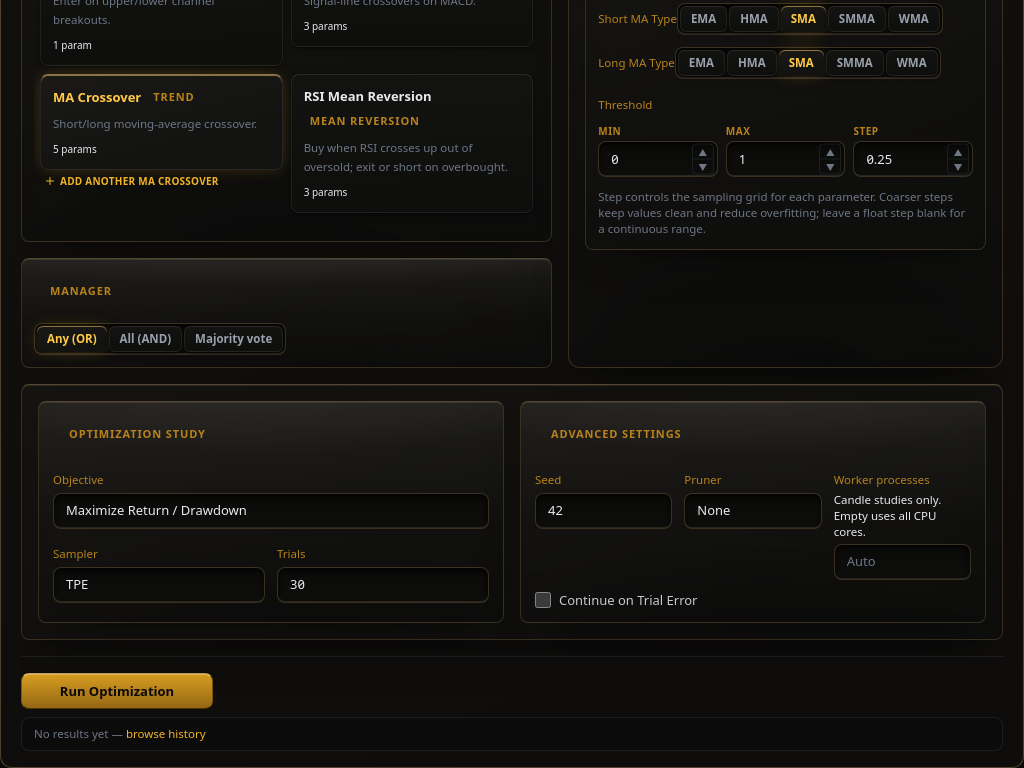
Test case: BacktestsWorkspace — optimization focus swap › routes the pre-run results teaser to history
The image size is (1024, 768).
(page scrolled)
Check: the button "MA Crossover" is shown, box x1=40 y1=74 x2=283 y2=170
Step 1. Click the button with aria-label "Open optimization history" → (80, 734), box x1=21 y1=717 x2=1003 y2=751
(page scrolled)
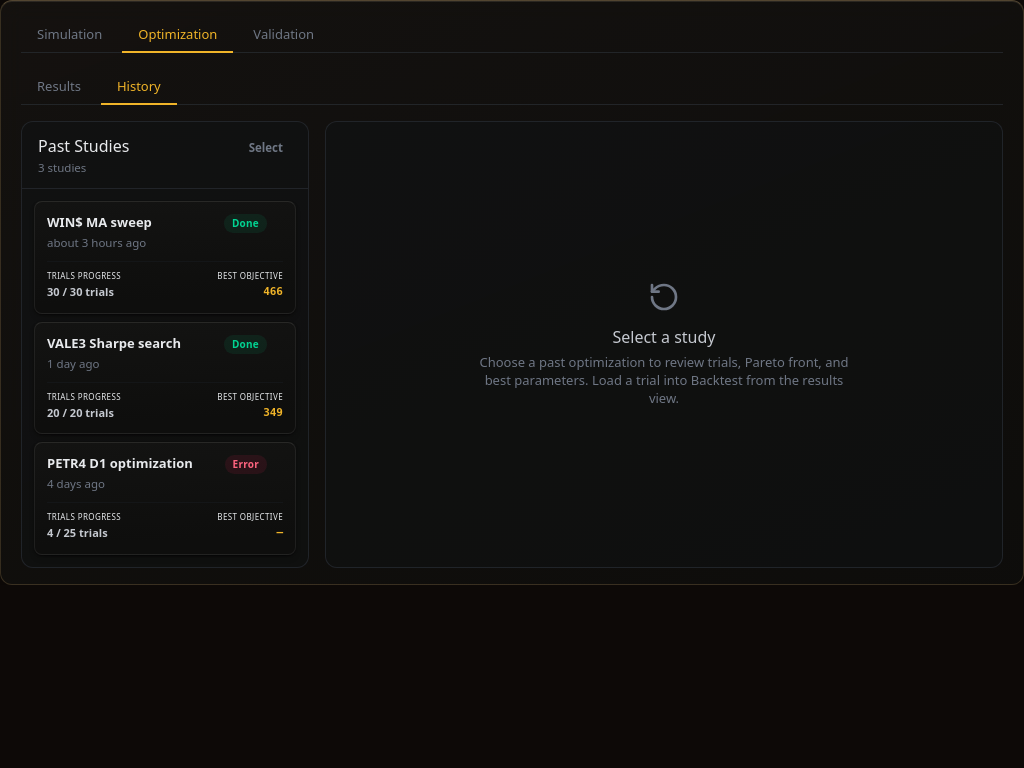
Check: the heading "Past Studies" is shown, box x1=38 y1=134 x2=129 y2=158
